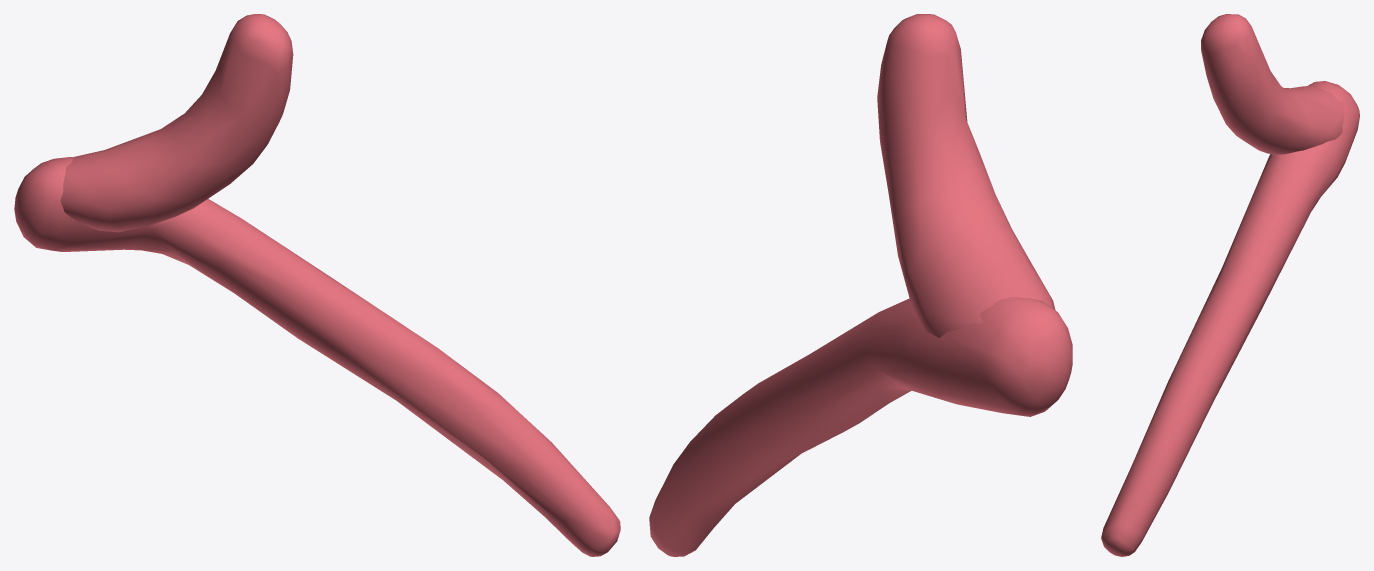
The model's file is fma50305_cx87.glb.
3 renders of one model, left to right at view 1: azimuth 30°, elevation 25°; view 2: azimuth 150°, elevation 25°; view 3: azimuth 270°, elevation 25°, orthographic. The views are drawn at different scales.
Parts seen in each view (by area): view 1: FMA50305_CX87; view 2: FMA50305_CX87; view 3: FMA50305_CX87.
Boxes of the visible parts, bbox=[...] form: FMA50305_CX87: bbox=[14, 14, 620, 556]; FMA50305_CX87: bbox=[649, 14, 1072, 556]; FMA50305_CX87: bbox=[1101, 14, 1359, 556].
Size of the model in its own units: 0.0481 by 0.0543 by 0.0292.
